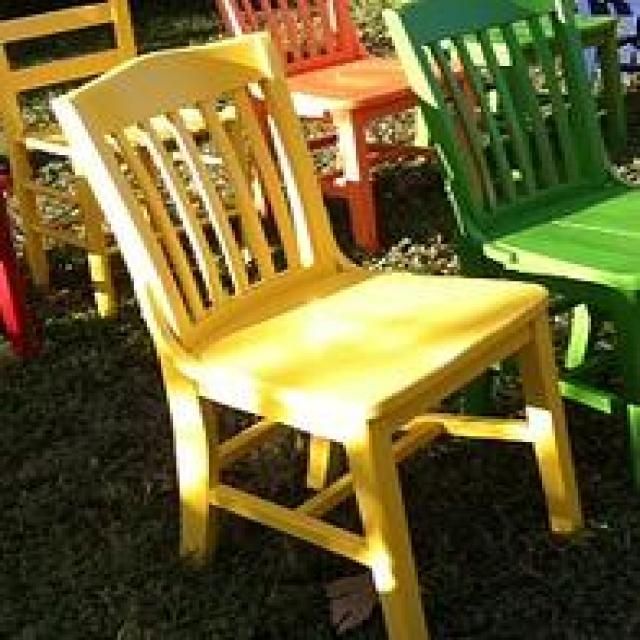chair: (46, 29, 584, 637), (379, 0, 640, 497)
